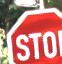Stop sign: (0, 0, 61, 63)
